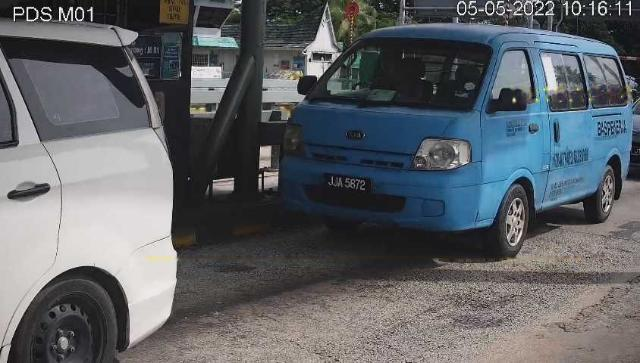License_Plate: (324, 174, 375, 199)
van: (279, 24, 634, 260)
